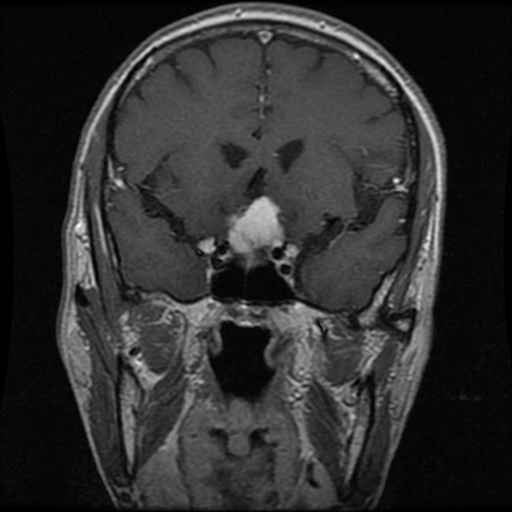meningioma: (228, 198, 283, 266)
